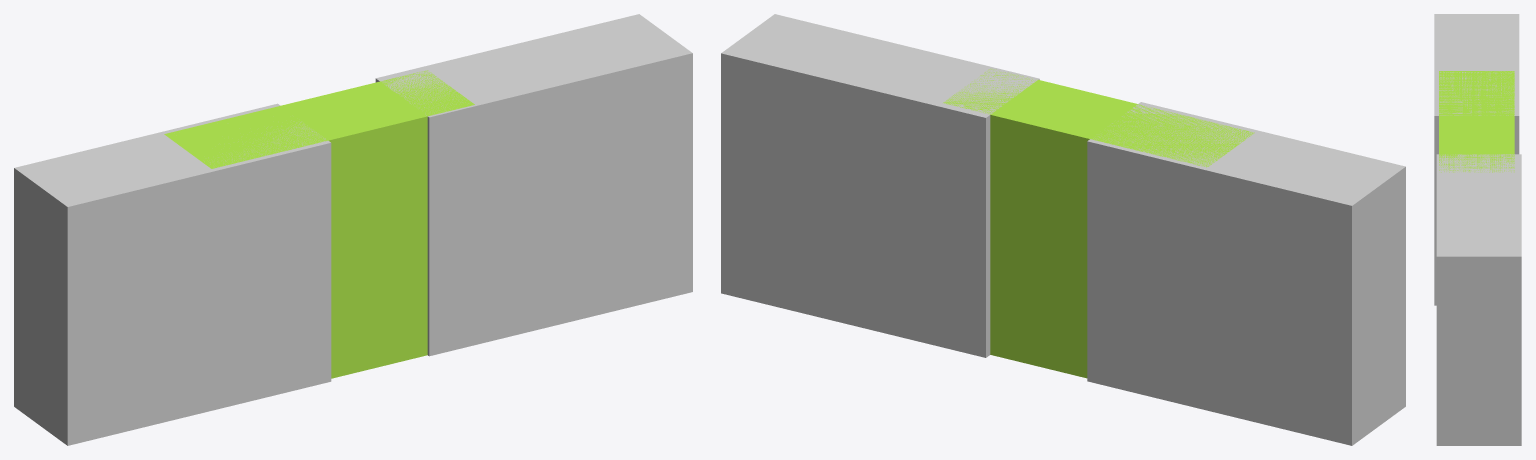
File: ShaderTest.glb
3 renders of one model, left to right at view 1: azimuth 30°, elevation 25°; view 2: azimuth 150°, elevation 25°; view 3: azimuth 270°, elevation 25°, orthographic. The views are drawn at different scales.
Parts seen in each view (by area): view 1: Depth2, Depth1, MainBlock; view 2: Depth2, Depth1, MainBlock; view 3: Depth1, MainBlock, Depth2.
Boxes of the visible parts, left/top/right/bottom form: Depth2: left=14, top=103, right=331, bottom=445; Depth1: left=375, top=14, right=692, bottom=356; MainBlock: left=164, top=70, right=474, bottom=378; Depth2: left=1087, top=102, right=1405, bottom=445; Depth1: left=721, top=14, right=1039, bottom=357; MainBlock: left=943, top=68, right=1254, bottom=378; Depth1: left=1436, top=154, right=1521, bottom=445; MainBlock: left=1439, top=71, right=1514, bottom=172; Depth2: left=1434, top=14, right=1519, bottom=305.
Size of the model in its own units: 7.59 by 2.77 by 1.15.
